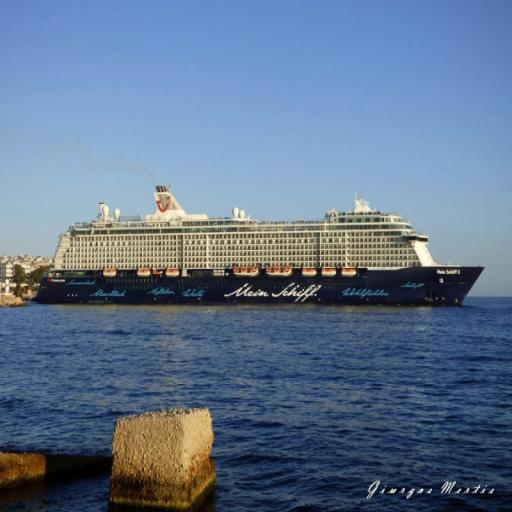cruises: (35, 170, 486, 322)
